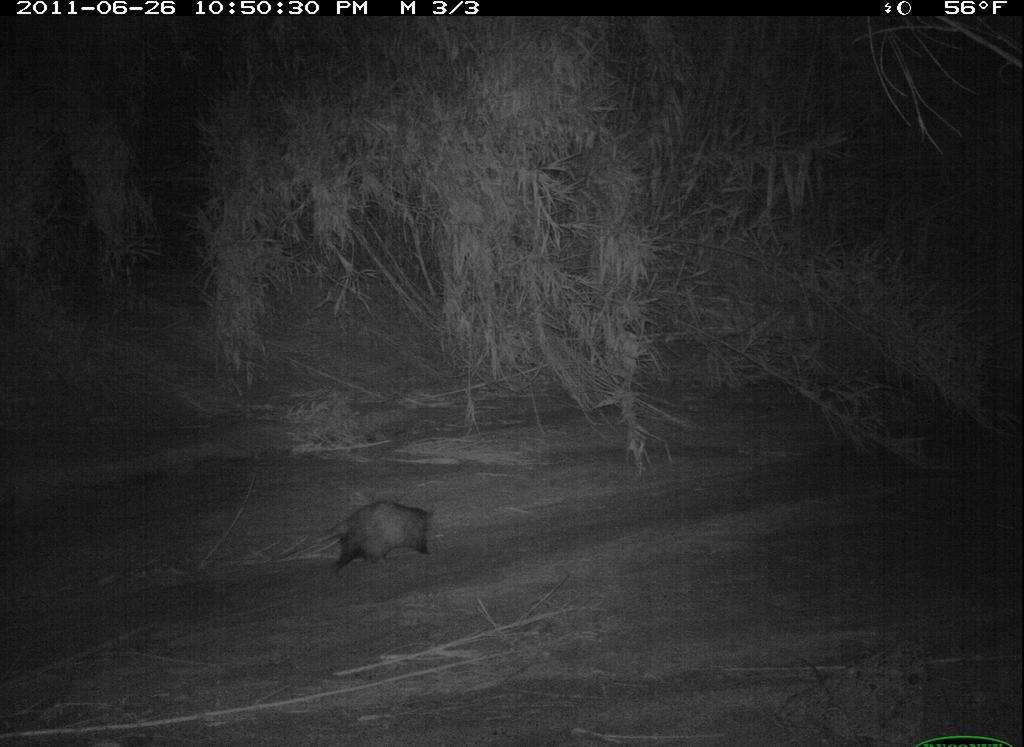opossum: (267, 488, 450, 589)
